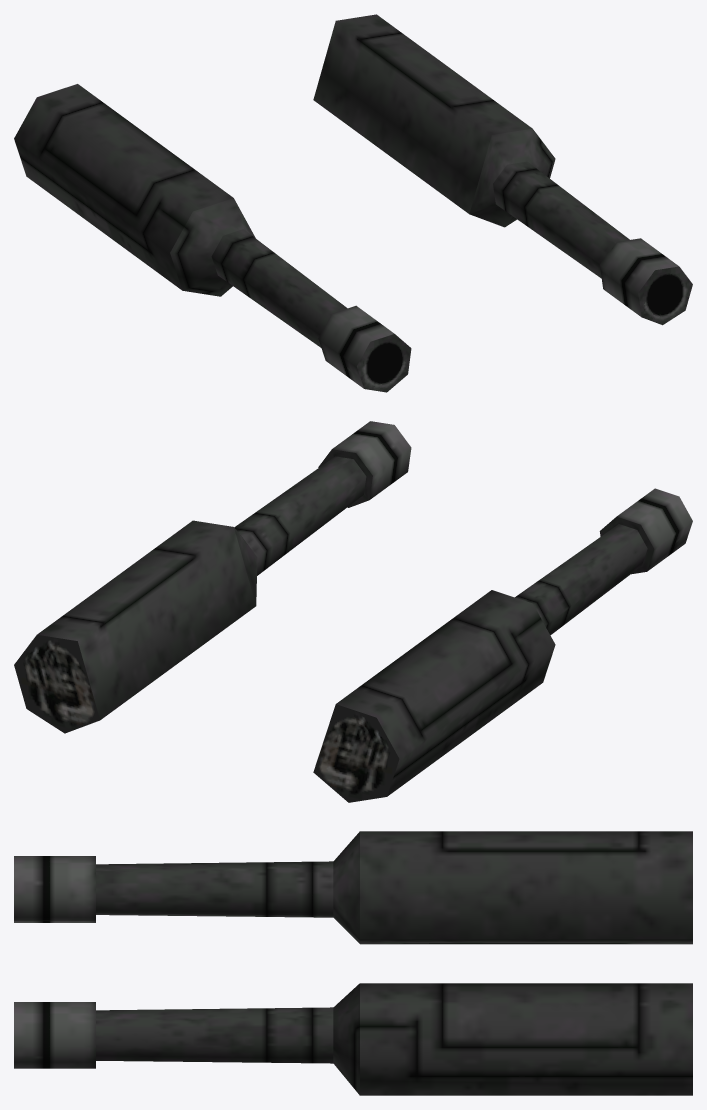
Rendered from bwing_weapon1_s01_l0.fbx.
3 views of the same model, one above another, from view 1: azimuth 30°, elevation 25°; view 2: azimuth 150°, elevation 25°; view 3: azimuth 270°, elevation 25° (orthographic). The views are drawn at different scales.
Parts seen in each view (by area): view 1: mesh_node; view 2: mesh_node; view 3: mesh_node.
Boxes of the visible parts, x1=… form: mesh_node: x1=14, y1=14, x2=692, y2=392; mesh_node: x1=14, y1=421, x2=692, y2=802; mesh_node: x1=14, y1=831, x2=692, y2=1095.
Bounding box in the file's own units: 0.9723 × 0.2304 × 1.39.
1 material, 1 textured.
